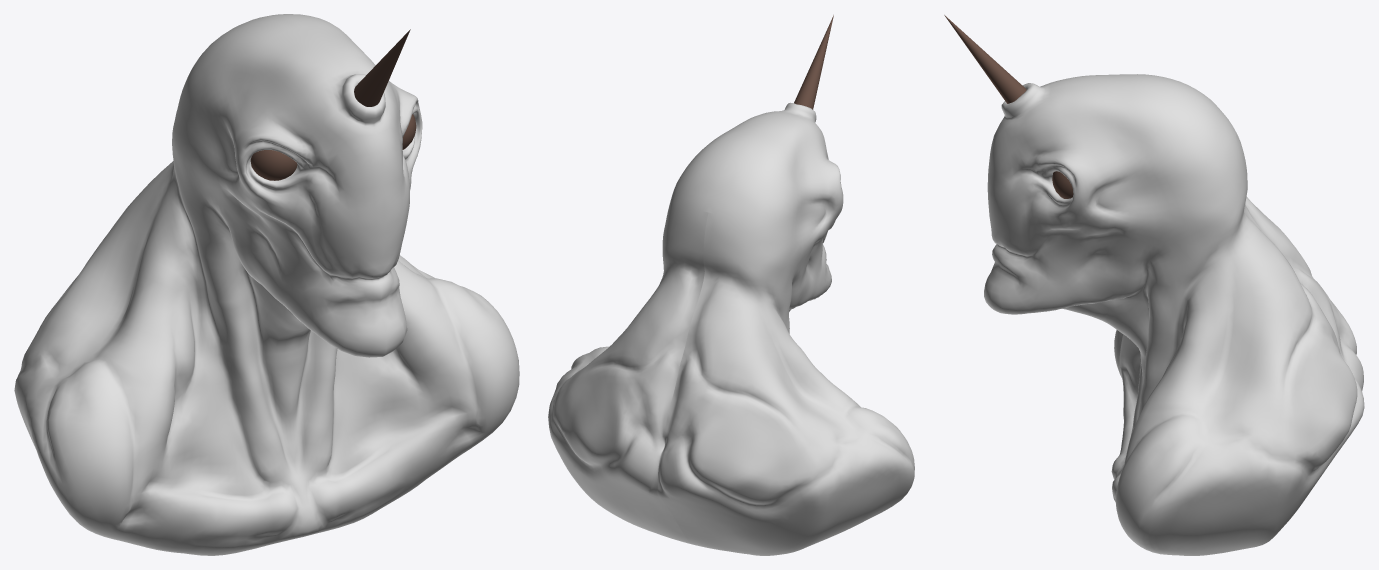
File: narwhal.glb
3 views of the same model, side by side, from view 1: azimuth 30°, elevation 25°; view 2: azimuth 150°, elevation 25°; view 3: azimuth 270°, elevation 25° (orthographic). The views are drawn at different scales.
Visible parts, largest first — view 1: Nulo_ PM3D_Sphere3D_5, Nulo_ Cono, Nulo_ Simetr_a Esfera; view 2: Nulo_ PM3D_Sphere3D_5, Nulo_ Cono; view 3: Nulo_ PM3D_Sphere3D_5, Nulo_ Cono.
Part boxes in pixels (x1,y1,x2,y2): Nulo_ PM3D_Sphere3D_5: (14,14,519,555); Nulo_ Cono: (354,29,410,106); Nulo_ Simetr_a Esfera: (250,114,416,180); Nulo_ PM3D_Sphere3D_5: (548,102,914,555); Nulo_ Cono: (794,15,833,109); Nulo_ PM3D_Sphere3D_5: (984,74,1364,555); Nulo_ Cono: (944,15,1026,103).
Size of the model in its own units: 345 by 433 by 322.
